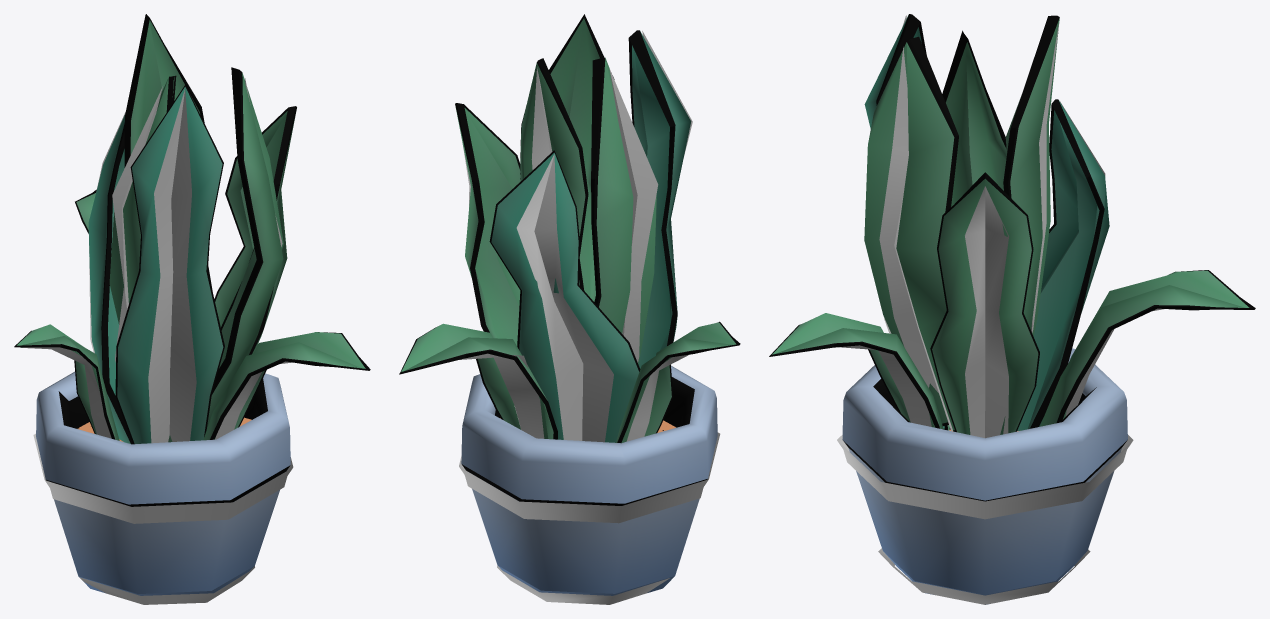
The model's file is Rooms_Paradise_SmallFlowerPot_02_Art.fbx.
3 views of the same model, side by side, from view 1: azimuth 30°, elevation 25°; view 2: azimuth 150°, elevation 25°; view 3: azimuth 270°, elevation 25° (orthographic). The views are drawn at different scales.
Visible parts, largest first — view 1: Rooms_Paradise_SmallFlowerPot_02_Art; view 2: Rooms_Paradise_SmallFlowerPot_02_Art; view 3: Rooms_Paradise_SmallFlowerPot_02_Art.
Part boxes in pixels (x1=…): Rooms_Paradise_SmallFlowerPot_02_Art: x1=14, y1=14, x2=370, y2=604; Rooms_Paradise_SmallFlowerPot_02_Art: x1=399, y1=14, x2=740, y2=604; Rooms_Paradise_SmallFlowerPot_02_Art: x1=769, y1=14, x2=1255, y2=604.
Bounding box in the file's own units: 85.09 × 151 × 119.
